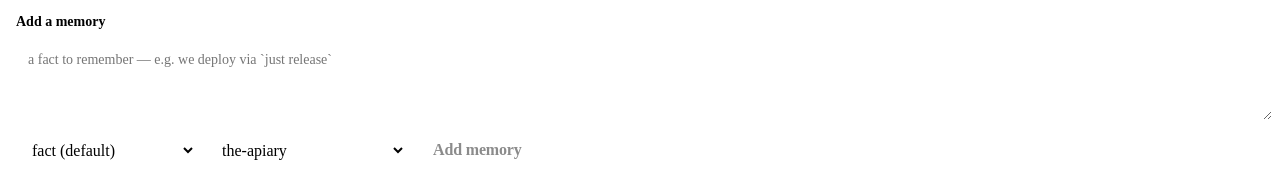
it: ISS-006 AddForm explicit destination selector (SP-4: never an implicit view side effect) › defaults the selector to the VIEWED project and submits it explicitly
Check: the dropdown with test id "add-project" shows "the-apiary", box [206,130,406,170]
Type "a fact" into the text box named "new content" at {"x": 644, "y": 80}, box [16,40,1272,120]
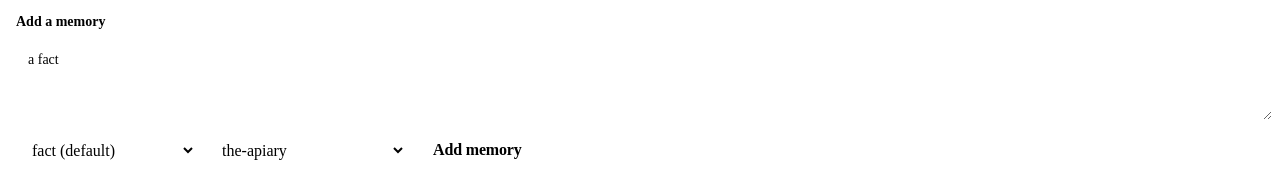
Click the button "Add memory" at {"x": 477, "y": 150}, box [416,130,539,170]
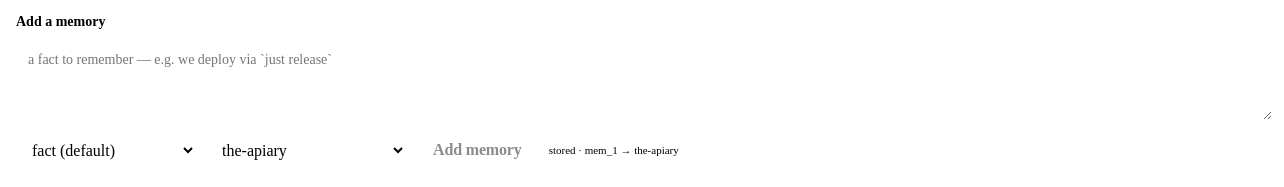
Check: the text with test id "add-note" shows "→ the-apiary", box [549,144,679,156]
